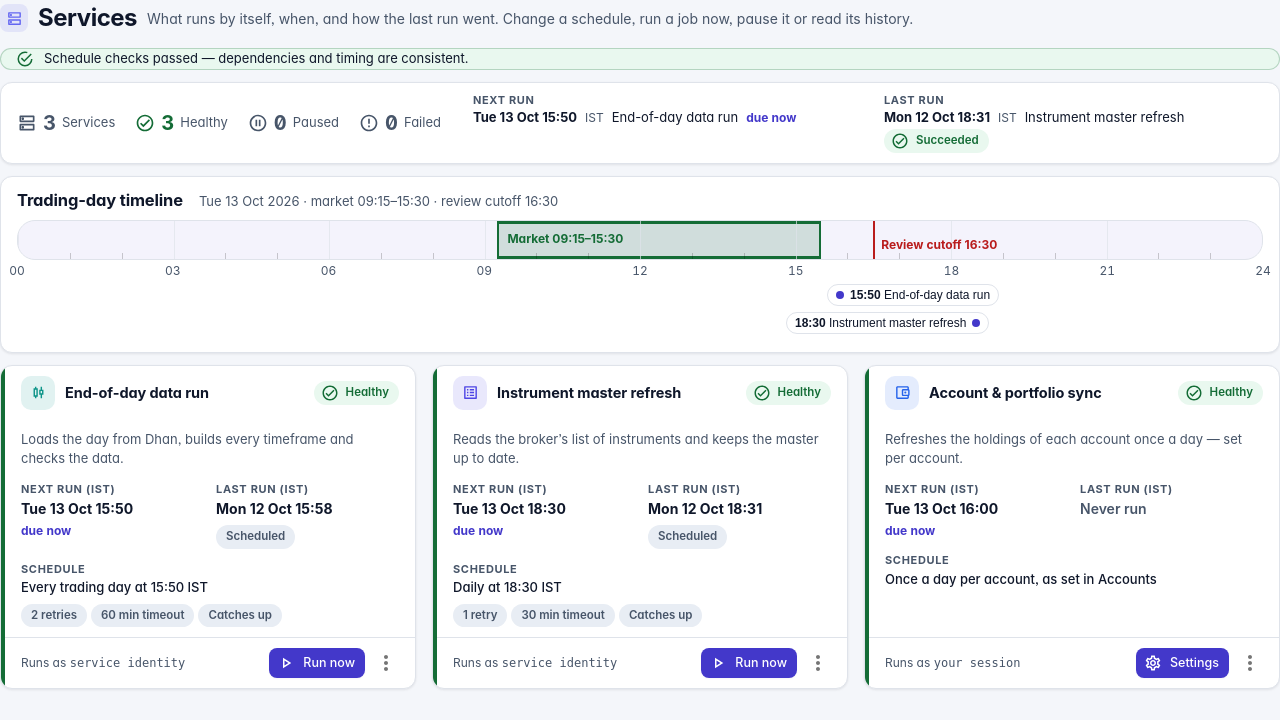
Test case: Services: the settings of the account sync › opens from the Settings button with the accounts that have the Portfolio role and the sync’s next run
The width and height of the screenshot is (1280, 720).
Click the button "Settings" at {"x": 1182, "y": 663}, box [1136,648,1229,678]
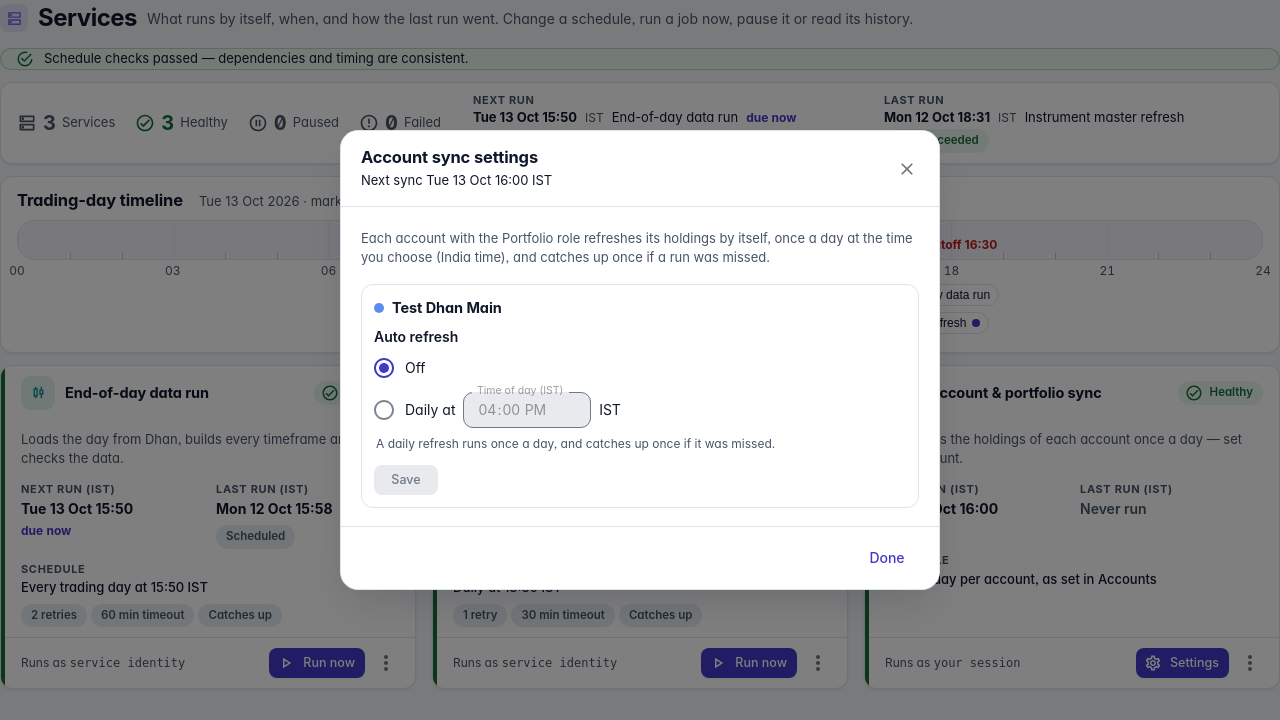
Expected: the text "Next sync Tue 13 Oct 16:00 IST" is shown, [361,172,552,188]
Expected: the radio button labelled "Off" is checked, [372,356,426,380]
